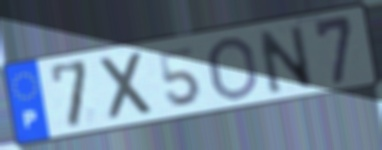5: (155, 44, 203, 109)
7: (47, 59, 93, 133), (311, 14, 356, 88)
N: (254, 21, 317, 97)
O: (206, 34, 261, 102)
X: (96, 48, 157, 125)
